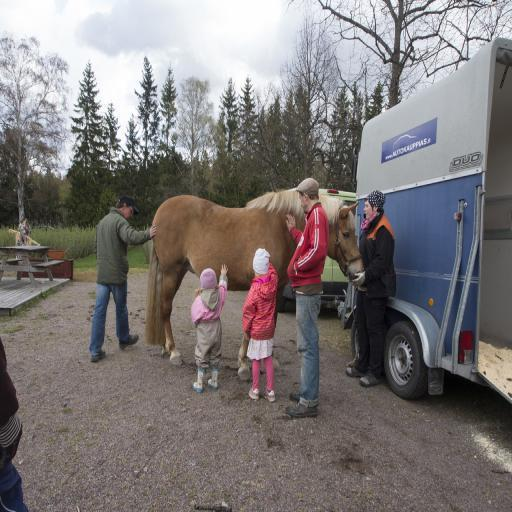horse: (144, 187, 368, 363)
